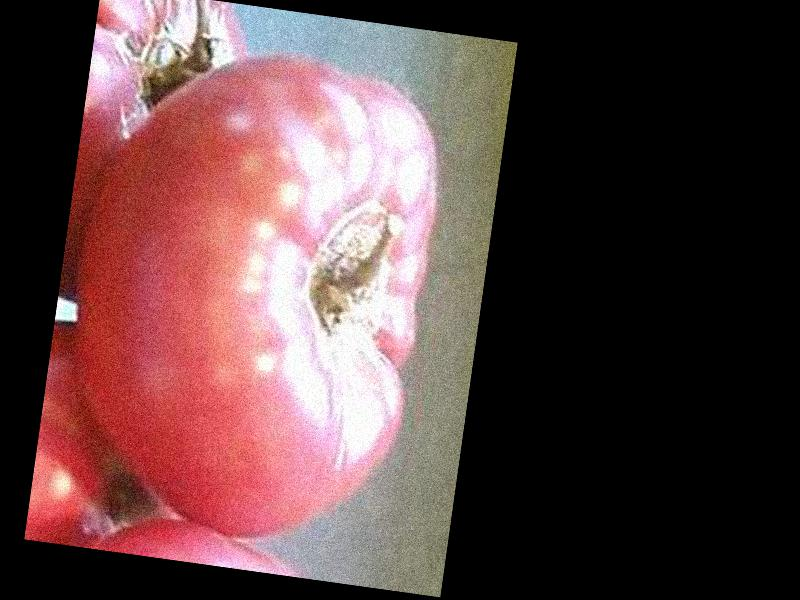Tomato: (46, 29, 454, 562)
